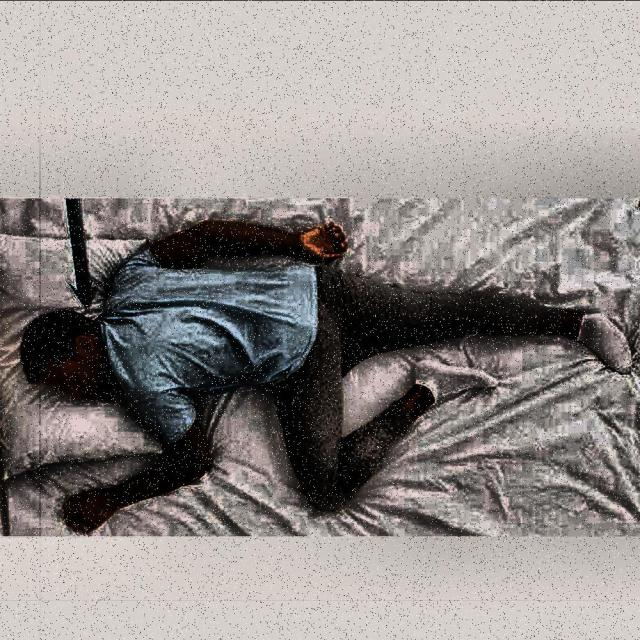Not_Supine: (20, 219, 630, 533)
